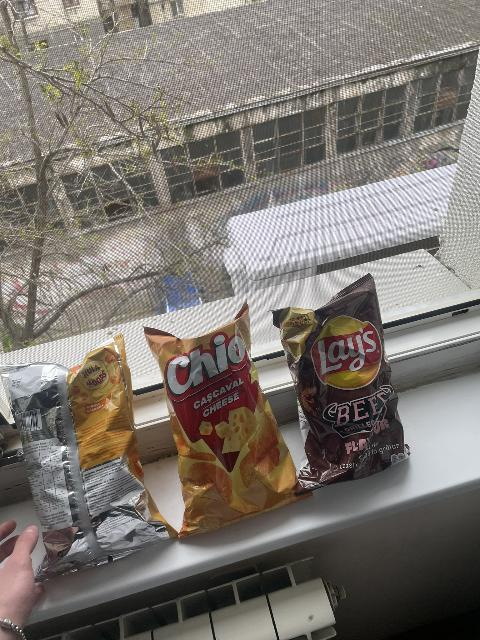Chio Cascaval 125g: (143, 312, 308, 535)
Chio Hula Hoops Cheese 70g: (2, 342, 174, 581)
Lays Beef Grilled Ribs 125g: (274, 273, 408, 481)
